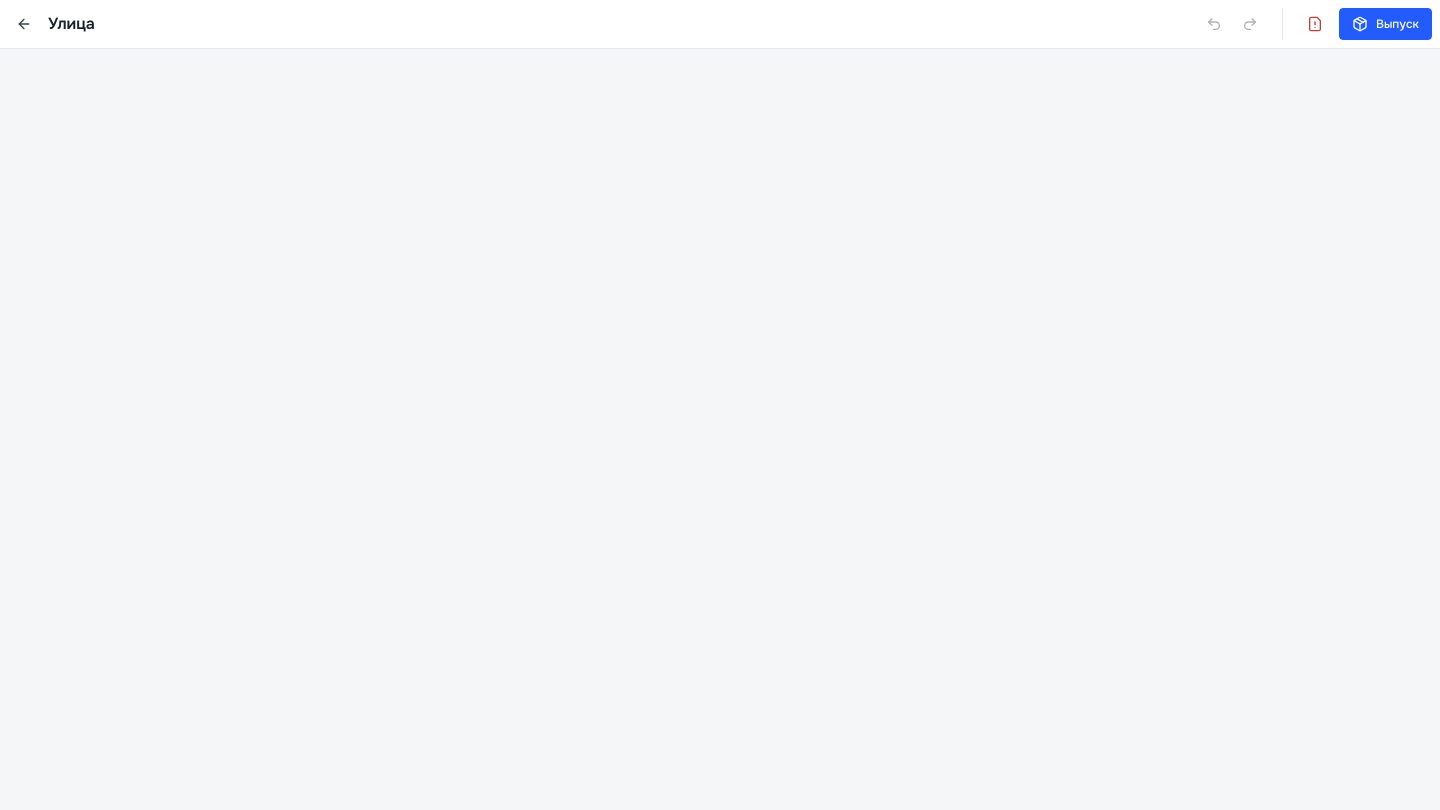
Scenario: Workspace header actions and status ownership › uses confirmation proof true for a recovery title
Click the button named "Открыть сведения о состоянии проекта": (1315, 24) left=1299, top=8, right=1331, bottom=40
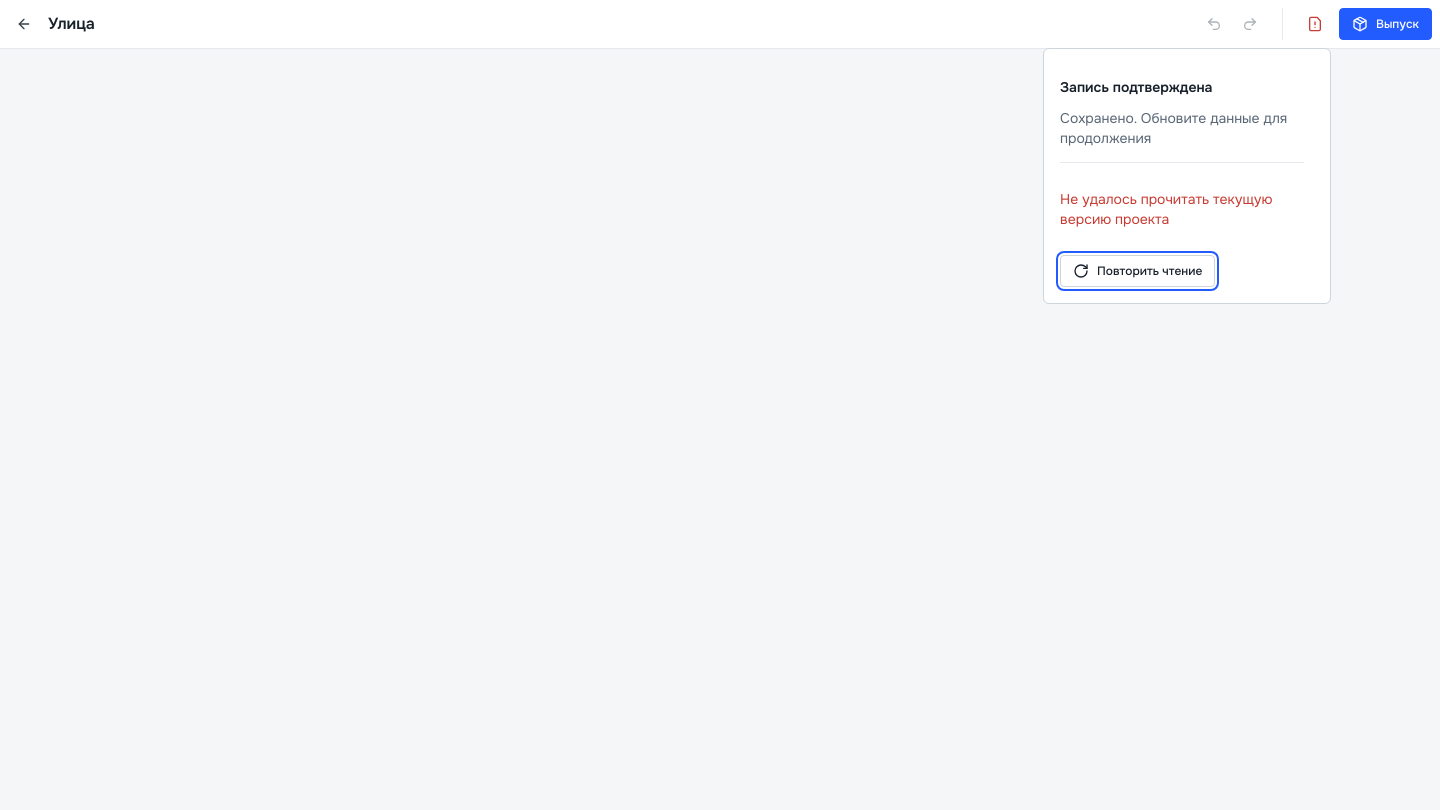
Check: the heading "Запись подтверждена" is shown, box left=1060, top=78, right=1212, bottom=96
Check: the button "Повторить чтение" is enabled, box left=1060, top=255, right=1215, bottom=287
